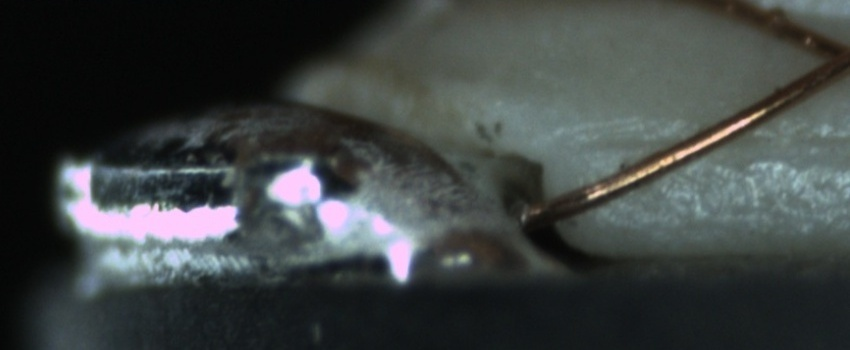CL: (798, 24, 850, 90)
DL: (602, 107, 848, 177)
